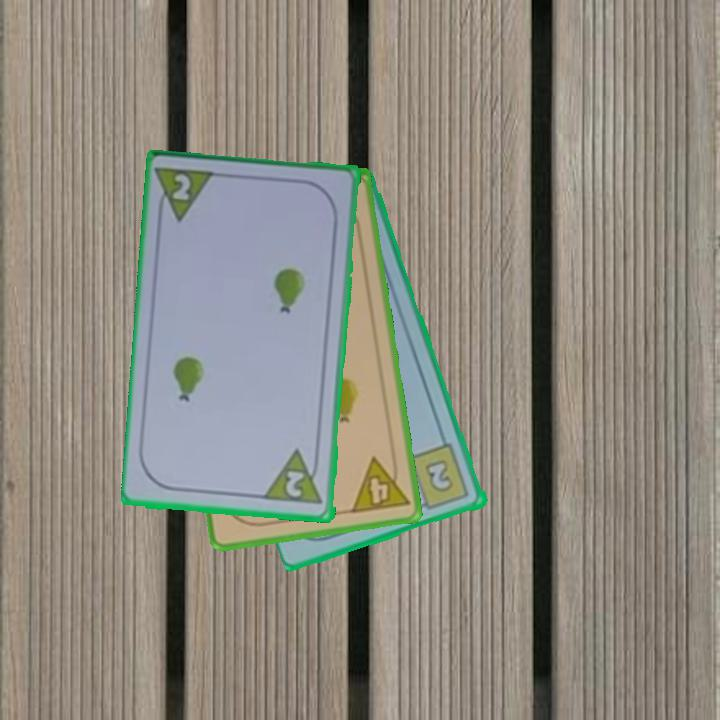2b: (406, 440, 473, 513)
2p: (154, 164, 220, 225), (262, 446, 326, 508)
4p: (347, 451, 412, 517)
